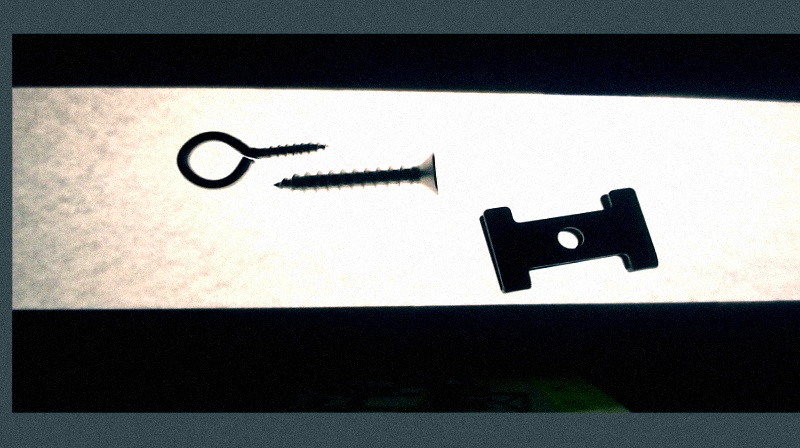O001: (171, 130, 331, 191)
O002: (476, 185, 660, 293)
S001: (268, 149, 440, 200)
